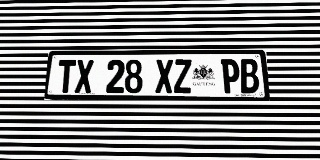2: (106, 59, 125, 93)
8: (124, 59, 143, 93)
B: (239, 59, 260, 93)
P: (221, 59, 240, 93)
T: (56, 60, 76, 93)
X: (74, 60, 94, 93), (155, 59, 173, 93)
Z: (174, 59, 192, 93)
